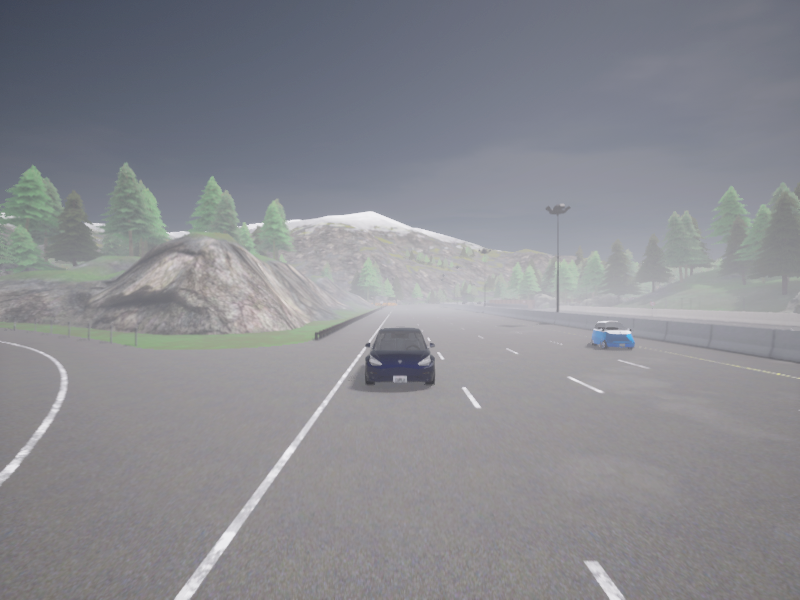vehicle: (365, 327, 434, 384), (591, 321, 634, 349), (469, 302, 473, 305), (463, 301, 467, 303), (478, 302, 483, 303)
